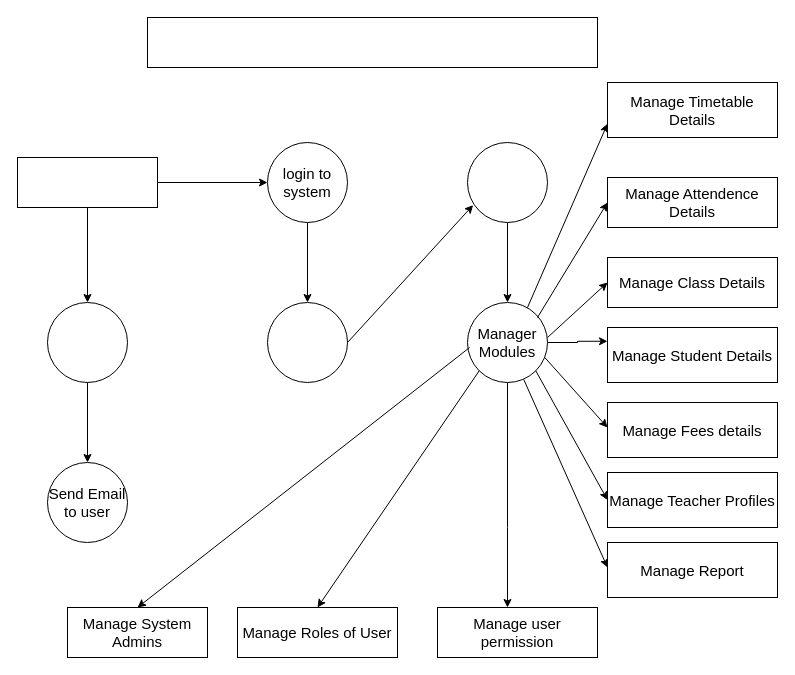
Some shapes in this 795 by 675 pixel diagram are drawn without their labels. Each missing label, with the centre of its shape:
Admin: point (87, 182)
Check credentials: point (307, 342)
Check Roles of Access: point (507, 182)
Forgot password: point (87, 342)
Student Information System: point (372, 42)
